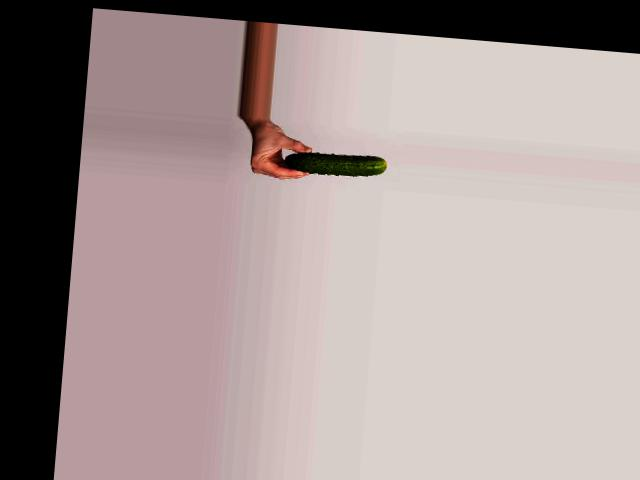cucumber: (283, 150, 386, 179)
